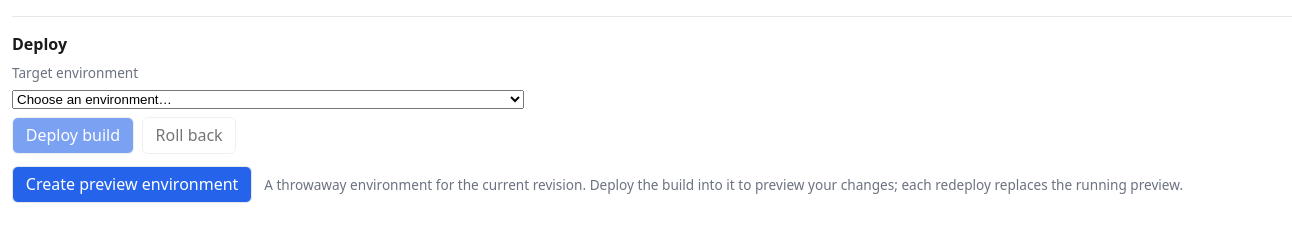
Scenario: DeployPanel › lists Cloud environments and names the chosen deploy target on the button
The image size is (1292, 247).
Select "production (persistent)" in the dropdown labelled "Target environment" at (268, 100), box [12, 90, 524, 109]
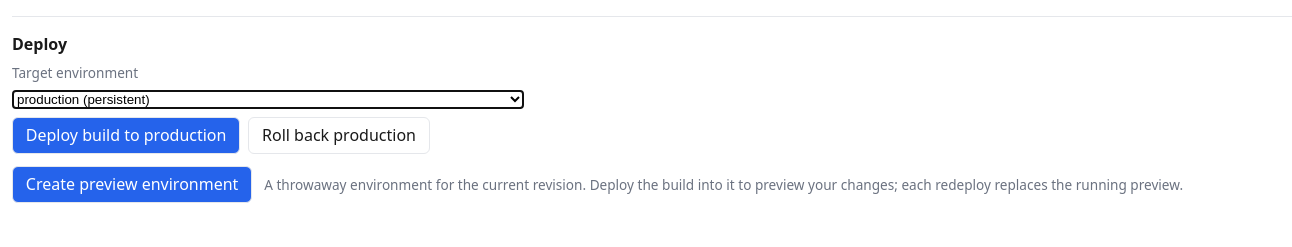
Expected: the button "Deploy build to production" is shown, [12, 117, 240, 154]
A preview environment is marked as throwaway, with its expiry, when chosen.
Select "preview-pr-12 · preview" in the dropdown labelled "Target environment" at (268, 100), box [12, 90, 524, 109]
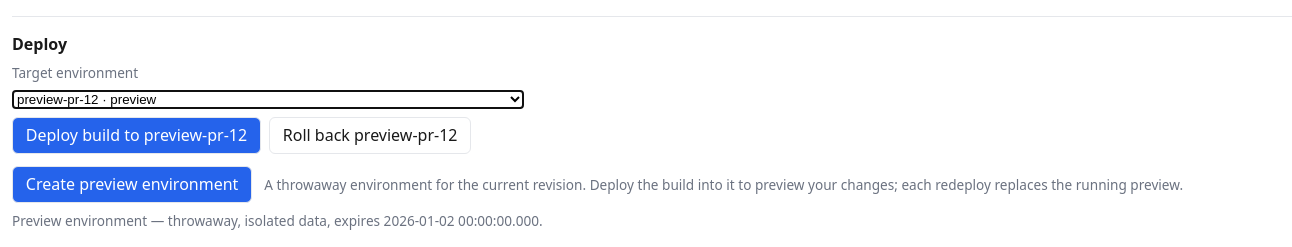
Expected: the text "Preview environment — throwaway" shows "expires", [327, 211, 539, 230]
